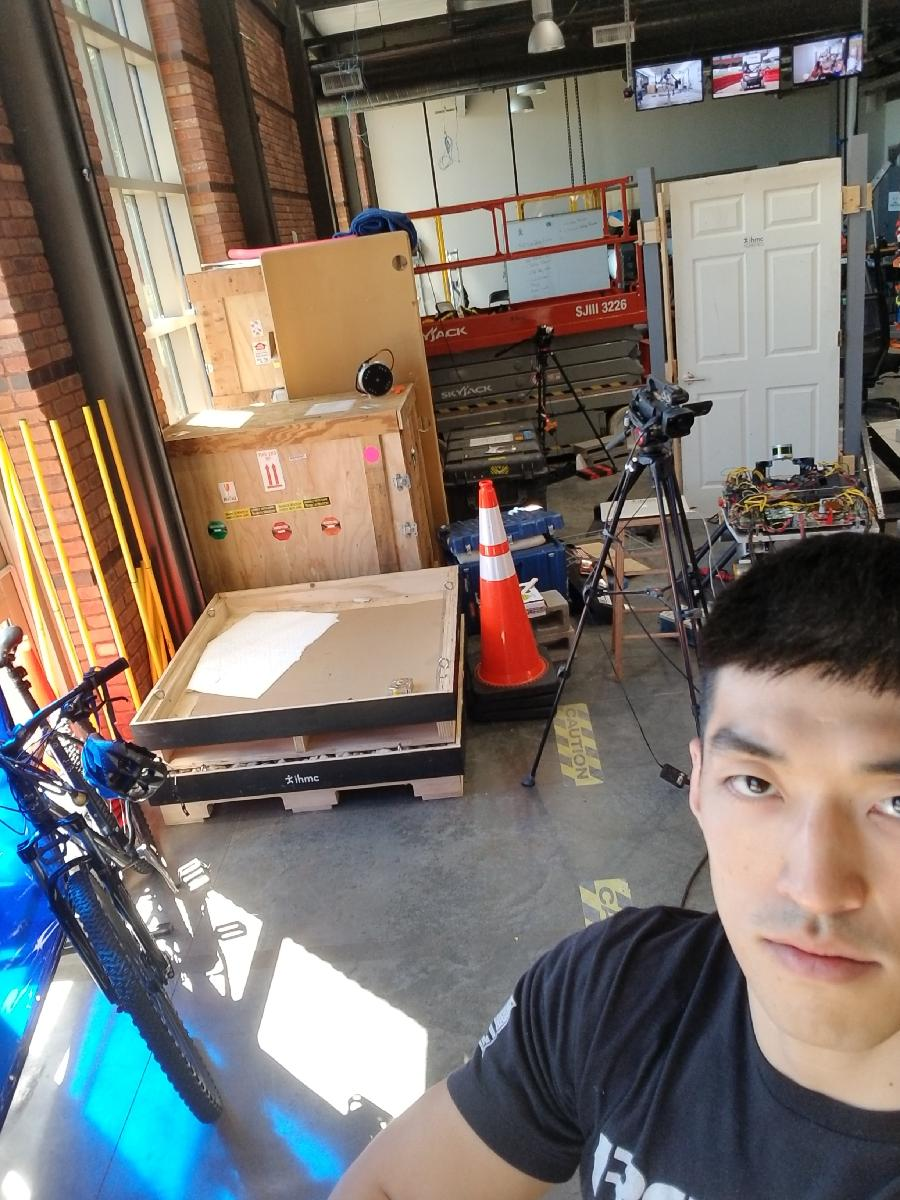door: (668, 156, 855, 509)
doorHandle: (681, 367, 707, 389)
